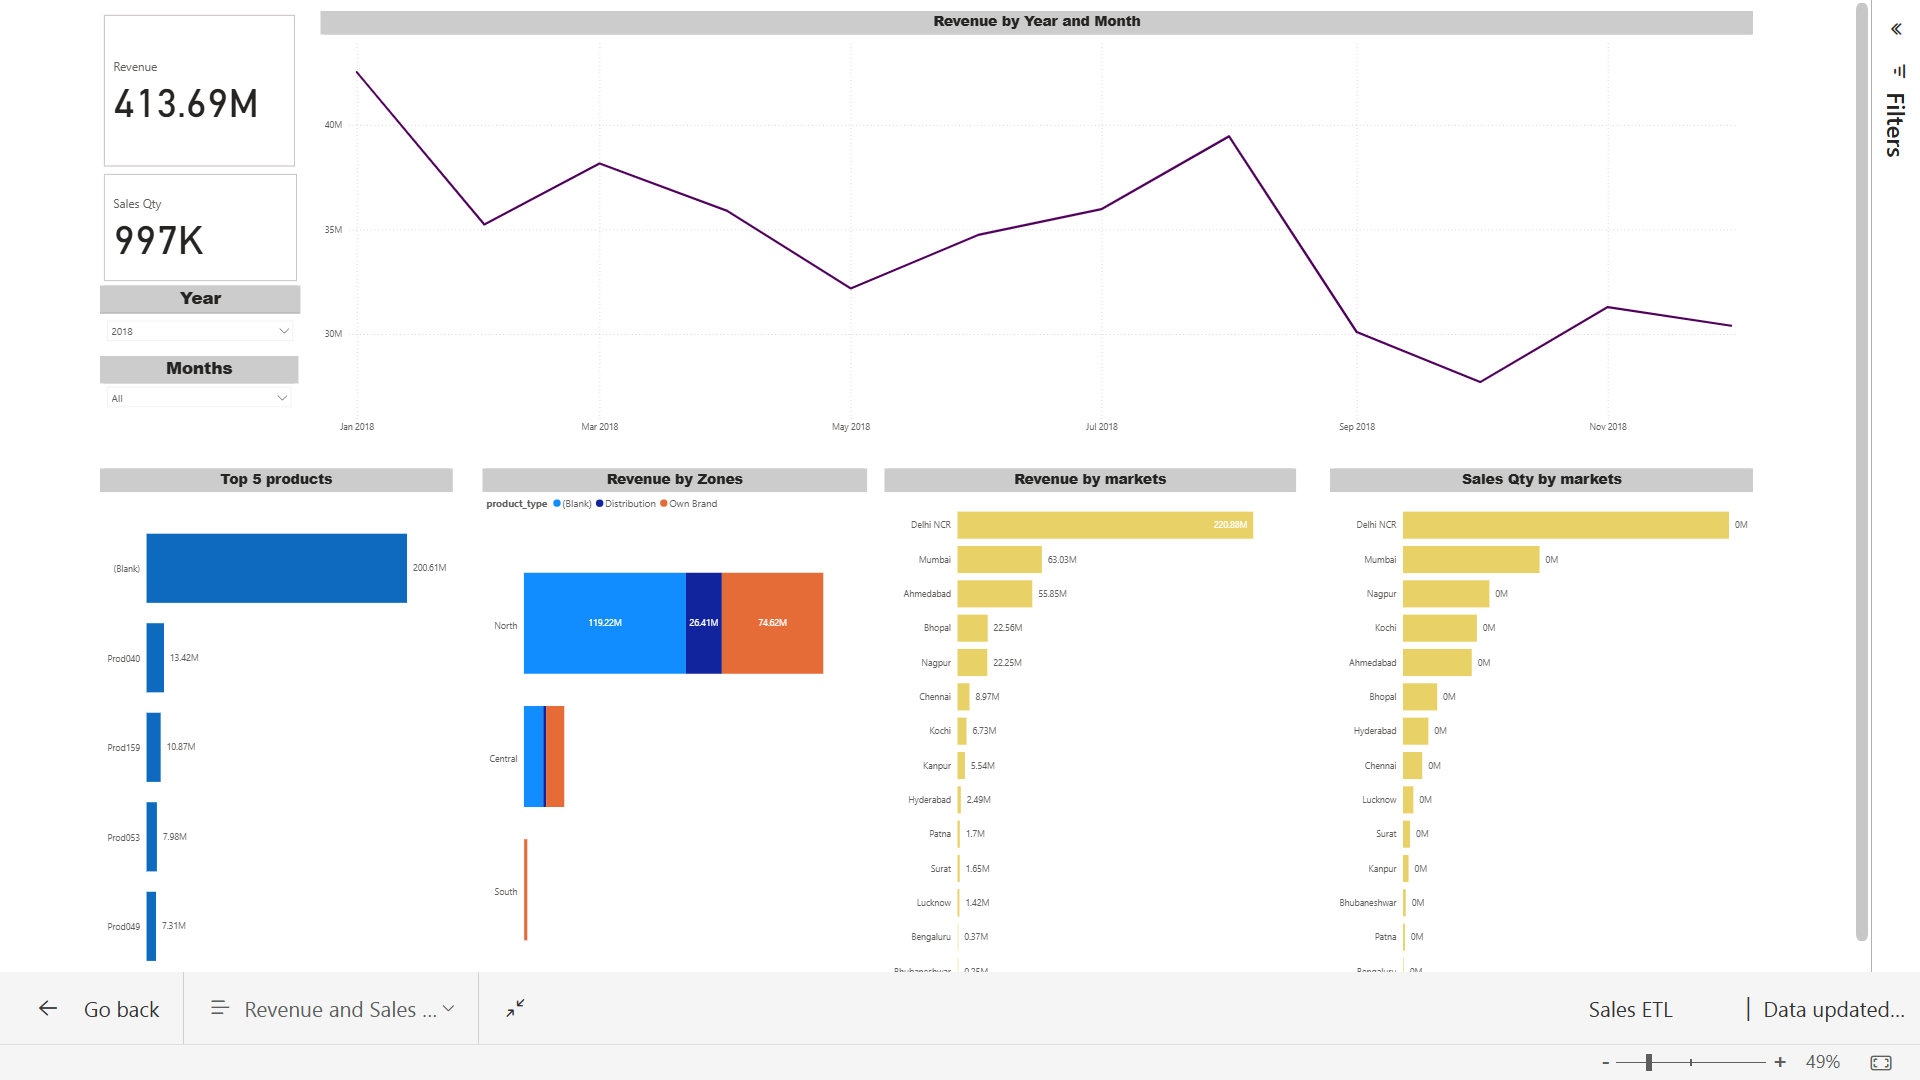

What the dashboard file says about the page in this screenshot:
{"tool":"powerbi","page":{"name":"Revenue and Sales insight","canvas":[2250,1350],"ordinal":0},"visuals":[{"type":"cardVisual","title":"Revenue","fields":{"Data":["BaseMeasures.Revenue"]},"box":[0,0,270,216.7],"z":0},{"type":"cardVisual","fields":{"Data":["BaseMeasures.Sales Qty"]},"box":[0,216.7,273.3,156.7],"z":1000},{"type":"barChart","title":"Revenue by markets","fields":{"Y":["BaseMeasures.Revenue"],"Category":["sales markets.markets_name"]},"box":[1066.7,623.3,560,726.7],"z":2000},{"type":"barChart","title":"Sales Qty by markets","fields":{"Y":["BaseMeasures.Sales Qty"],"Category":["sales markets.markets_name"]},"box":[1673.3,623.3,576.7,726.7],"z":3000},{"type":"slicer","title":"Year","fields":{"Values":["sales date.cy_date.Variation.Date Hierarchy.Year"]},"box":[0,373,273,97.3],"z":4000},{"type":"slicer","title":"Months","fields":{"Values":["sales date.cy_date.Variation.Date Hierarchy.Month"]},"box":[0,470,270,113.3],"z":5000},{"type":"barChart","title":"Revenue by Zones","fields":{"Y":["BaseMeasures.Revenue"],"Category":["sales markets.zone"],"Series":["sales products.product_type"]},"box":[520,623.3,523.3,726.7],"z":6000},{"type":"barChart","title":"Top 5 products","fields":{"Y":["BaseMeasures.Revenue"],"Category":["sales products.product_code"]},"box":[0,623.3,480,726.7],"z":7000},{"type":"lineChart","fields":{"Y":["BaseMeasures.Revenue"],"Category":["sales date.date.Variation.Date Hierarchy.Year","sales date.date.Variation.Date Hierarchy.Month"]},"box":[300,0,1950,583.3],"z":8000}]}

Visuals, with their boxes in screenshot pixels (x1, y1, x2, y2):
"Revenue" cardVisual: x1=140, y1=25, x2=345, y2=190
cardVisual - BaseMeasures.Sales Qty: x1=140, y1=190, x2=348, y2=309
"Revenue by markets" barChart: x1=952, y1=499, x2=1378, y2=1052
"Sales Qty by markets" barChart: x1=1413, y1=499, x2=1852, y2=1052
"Year" slicer: x1=140, y1=309, x2=348, y2=383
"Months" slicer: x1=140, y1=383, x2=345, y2=469
"Revenue by Zones" barChart: x1=536, y1=499, x2=934, y2=1052
"Top 5 products" barChart: x1=140, y1=499, x2=505, y2=1052
lineChart - BaseMeasures.Revenue x sales date.date.Variation.Date Hierarchy.Year: x1=368, y1=25, x2=1852, y2=469
